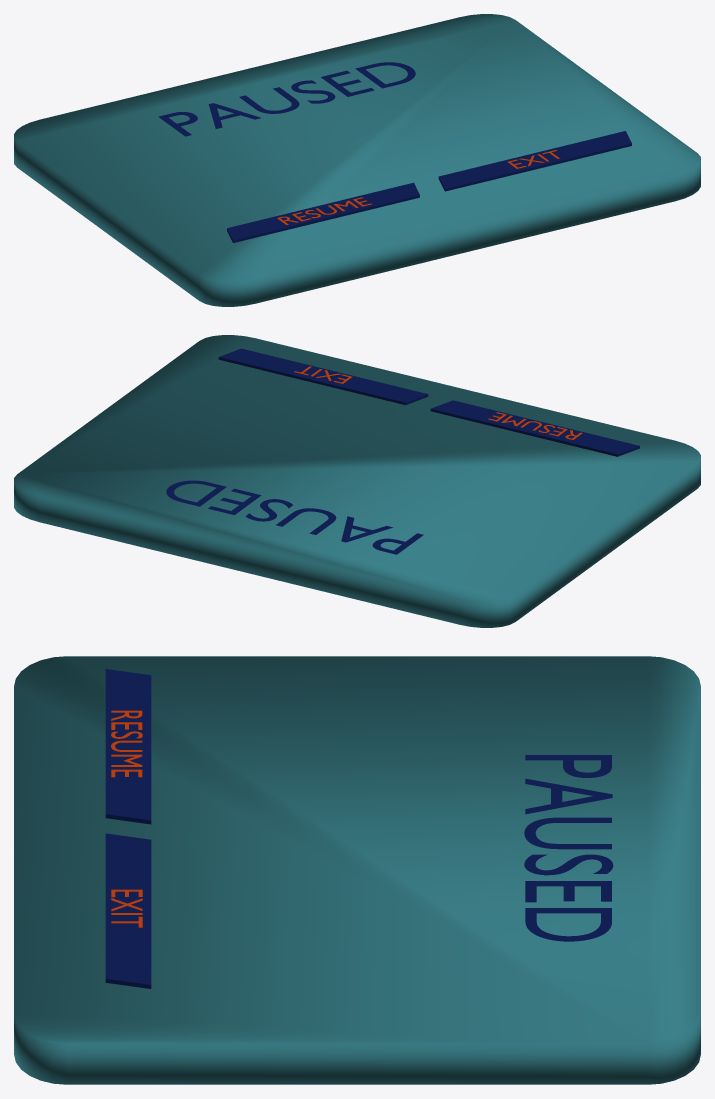
The model's file is inAtomicSubMenu.obj.
3 views of the same model, one above another, from view 1: azimuth 30°, elevation 25°; view 2: azimuth 150°, elevation 25°; view 3: azimuth 270°, elevation 25° (orthographic). The views are drawn at different scales.
Visible parts, largest first — view 1: MainMenuBox_Cube.001, SelectionBox.003_Cube.002, SelectionBox.001_Cube.005, Title_inAtomic; view 2: MainMenuBox_Cube.001, SelectionBox.003_Cube.002, SelectionBox.001_Cube.005, Title_inAtomic; view 3: MainMenuBox_Cube.001, SelectionBox.003_Cube.002, Title_inAtomic, SelectionBox.001_Cube.005, SelectionTitle.001_inAtomic.001.
Part boxes in pixels (bbox=[...]): MainMenuBox_Cube.001: bbox=[14, 14, 700, 306]; SelectionBox.003_Cube.002: bbox=[438, 131, 631, 191]; SelectionBox.001_Cube.005: bbox=[227, 182, 419, 242]; Title_inAtomic: bbox=[158, 62, 415, 136]; MainMenuBox_Cube.001: bbox=[14, 335, 700, 627]; SelectionBox.003_Cube.002: bbox=[218, 348, 428, 405]; SelectionBox.001_Cube.005: bbox=[430, 400, 639, 456]; Title_inAtomic: bbox=[166, 480, 423, 554]; MainMenuBox_Cube.001: bbox=[14, 656, 700, 1084]; SelectionBox.003_Cube.002: bbox=[105, 833, 151, 988]; Title_inAtomic: bbox=[524, 755, 613, 941]; SelectionBox.001_Cube.005: bbox=[105, 669, 151, 824]; SelectionTitle.001_inAtomic.001: bbox=[111, 710, 142, 777].
Size of the model in its own units: 2 by 0.1575 by 1.5.
